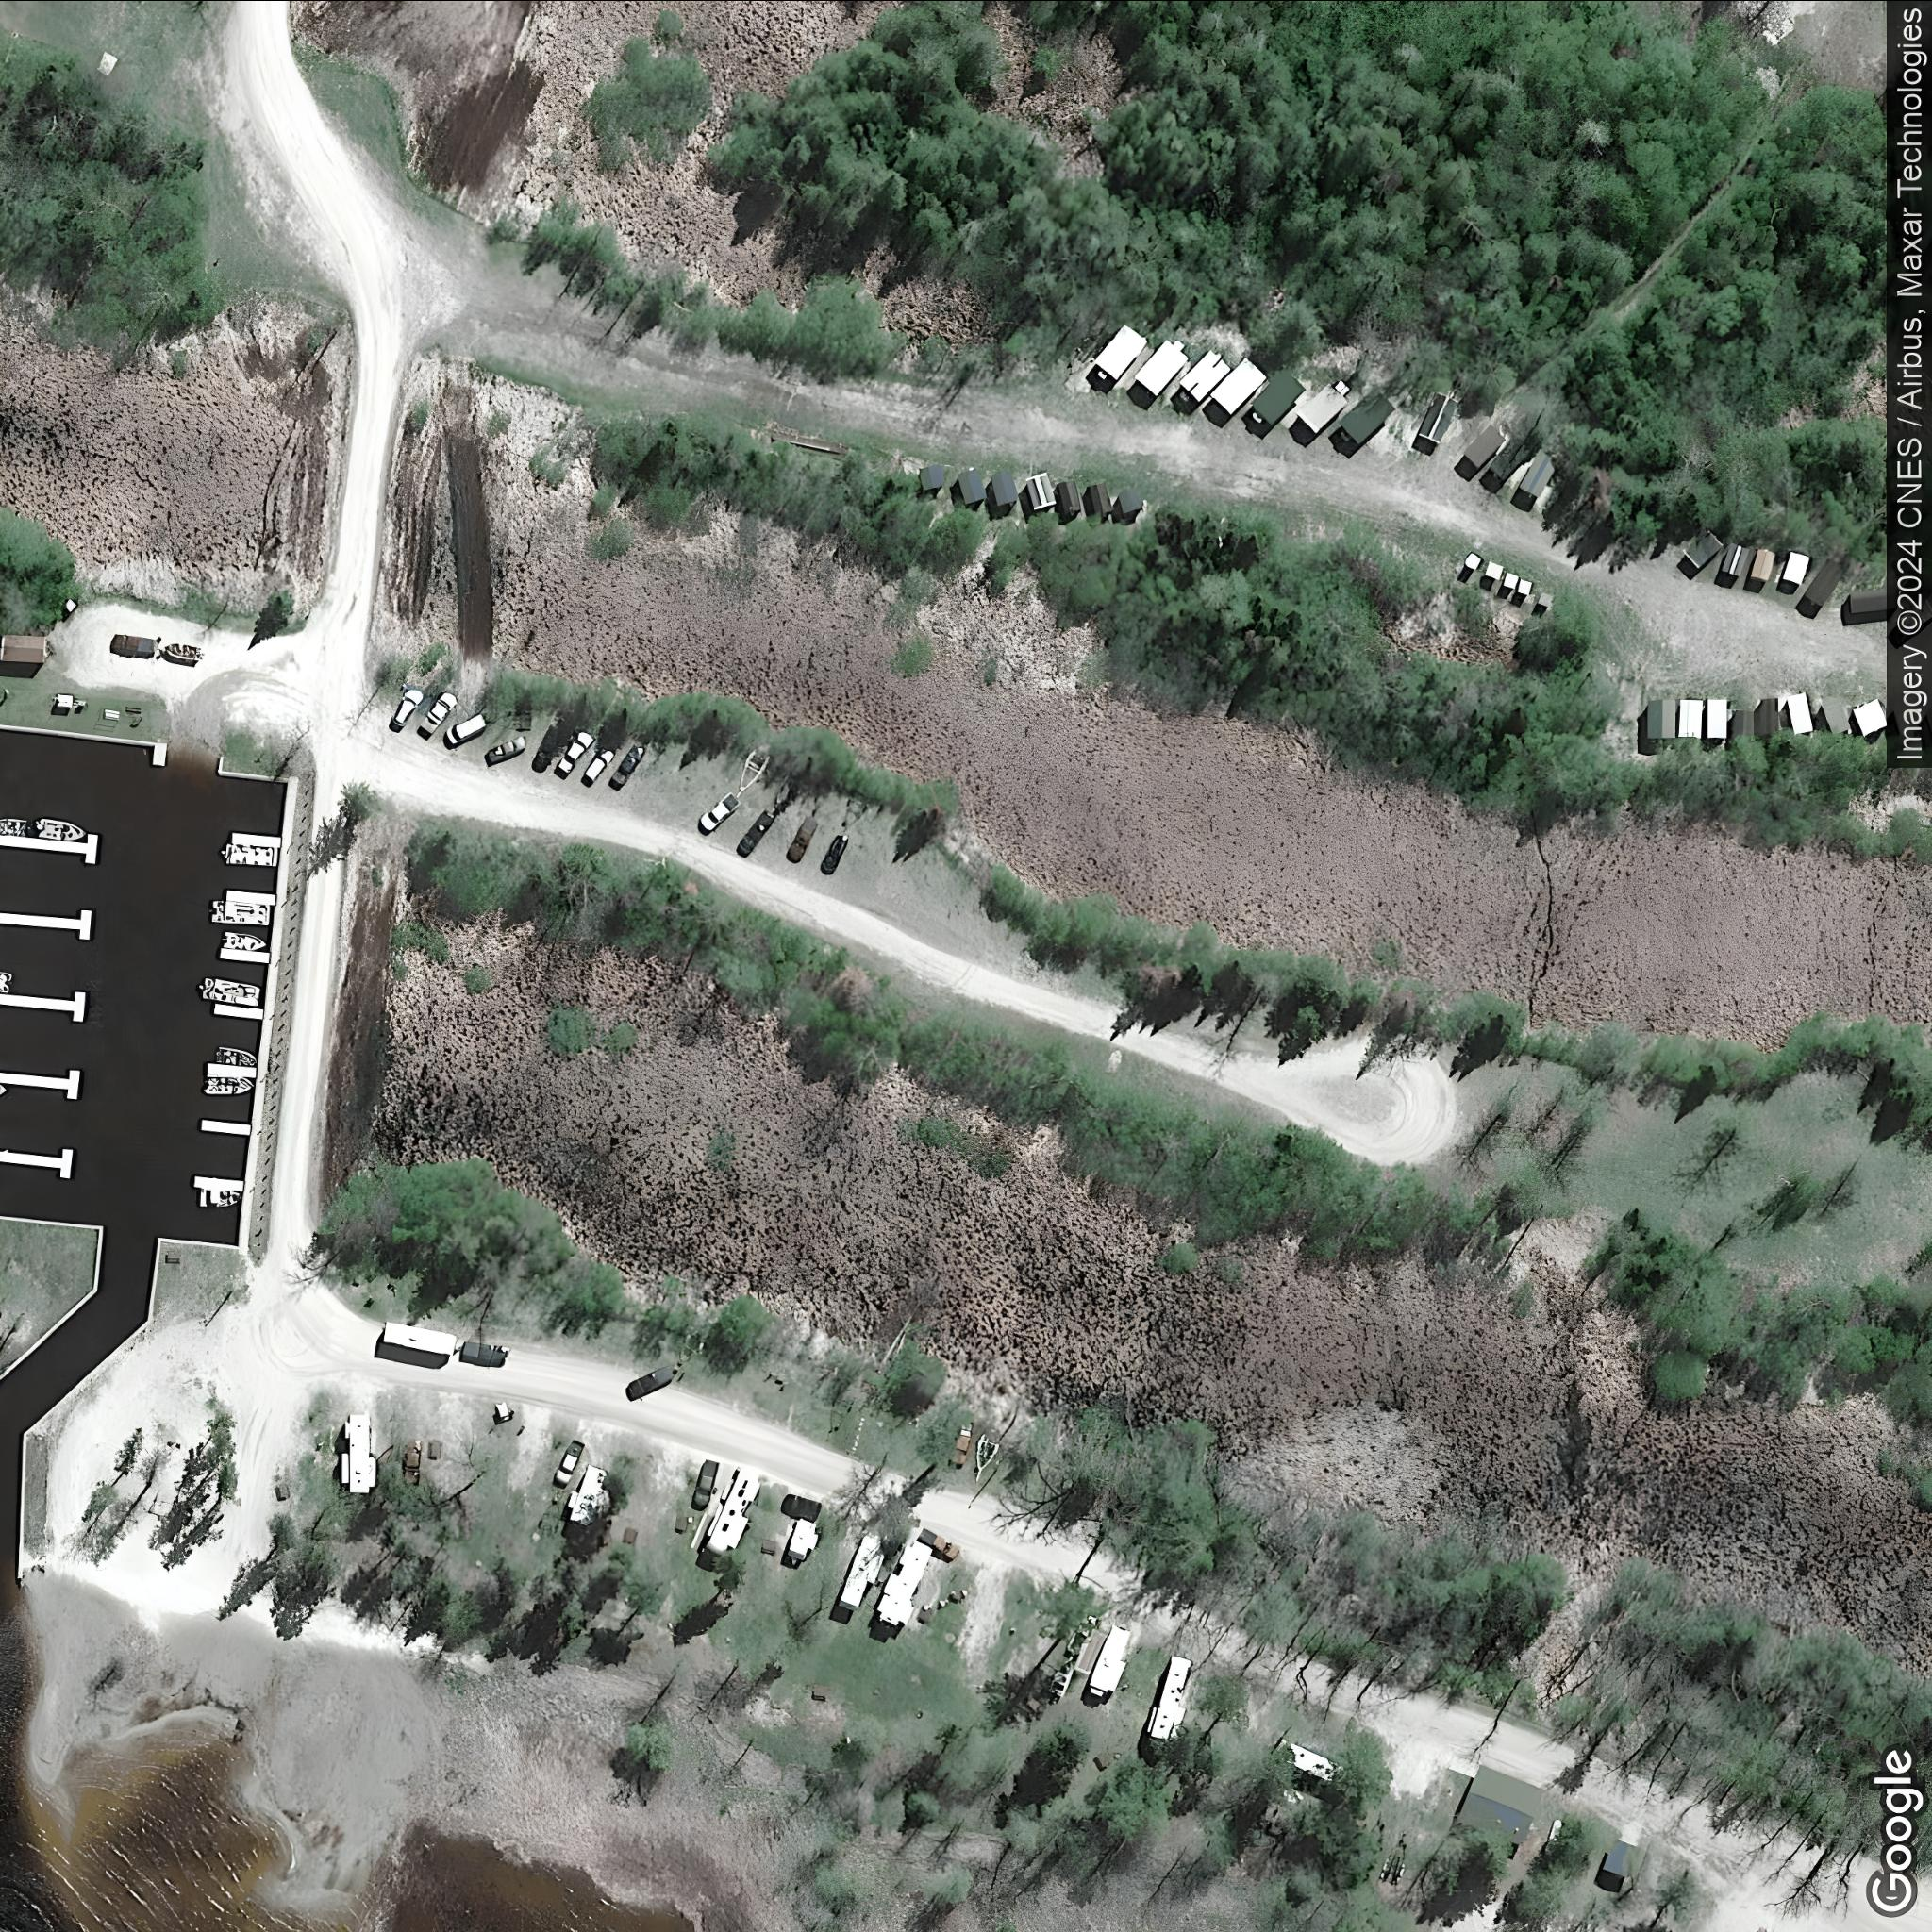Garage: (4, 633, 50, 663)
House: (1454, 1759, 1543, 1847)
Other: (1419, 391, 1460, 442), (1490, 433, 1532, 481), (1520, 446, 1555, 497), (1463, 425, 1504, 467), (1805, 559, 1842, 605), (1683, 527, 1723, 566), (1852, 699, 1888, 736), (1603, 1840, 1637, 1875), (1649, 699, 1675, 738), (1789, 692, 1812, 734), (1782, 550, 1810, 584), (1721, 541, 1750, 575), (1679, 699, 1702, 736), (1851, 589, 1888, 612), (1822, 699, 1851, 729), (1752, 547, 1776, 580), (1707, 699, 1727, 738)
Propane: (1546, 1815, 1566, 1847)
Trailer: (874, 1537, 934, 1626), (704, 1468, 761, 1555), (837, 1523, 886, 1612), (1088, 318, 1150, 387), (1332, 387, 1398, 451), (1244, 368, 1307, 433), (1132, 333, 1194, 396), (1146, 1654, 1192, 1739), (1295, 373, 1355, 433), (1173, 349, 1231, 409), (1086, 1624, 1132, 1698), (340, 1412, 379, 1495), (568, 1463, 610, 1527), (382, 1320, 460, 1353), (1283, 1739, 1339, 1783), (786, 1516, 819, 1571)
